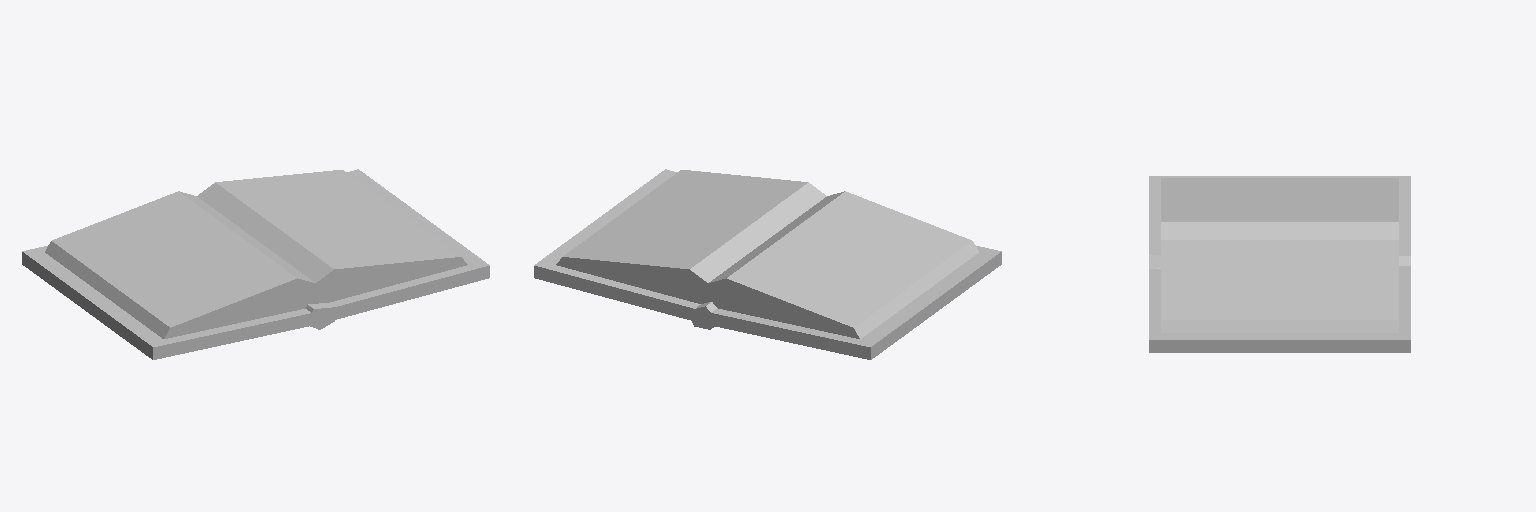
File: libro2 1.obj
3 views of the same model, side by side, from view 1: azimuth 30°, elevation 25°; view 2: azimuth 150°, elevation 25°; view 3: azimuth 270°, elevation 25° (orthographic).
Visible parts, largest first — view 1: Cube.002, Cube.003, Cube, Cube.001, Cylinder; view 2: Cube.002, Cube.003, Cube, Cube.001, Cylinder; view 3: Cube.003, Cube.002, Cube.001, Cube.
Boxes of the visible parts, x1=… form: Cube.002: x1=45, y1=191, x2=315, y2=338; Cube.003: x1=197, y1=170, x2=467, y2=303; Cube: x1=22, y1=246, x2=311, y2=359; Cube.001: x1=330, y1=169, x2=489, y2=319; Cylinder: x1=305, y1=303, x2=334, y2=329; Cube.002: x1=708, y1=191, x2=978, y2=338; Cube.003: x1=556, y1=170, x2=826, y2=303; Cube: x1=711, y1=246, x2=1001, y2=359; Cube.001: x1=534, y1=169, x2=700, y2=319; Cylinder: x1=686, y1=302, x2=718, y2=329; Cube.003: x1=1161, y1=240, x2=1398, y2=332; Cube.002: x1=1161, y1=178, x2=1398, y2=239; Cube.001: x1=1149, y1=266, x2=1410, y2=352; Cube: x1=1149, y1=176, x2=1410, y2=255.
Size of the model in its own units: 2.96 by 0.4297 by 2.